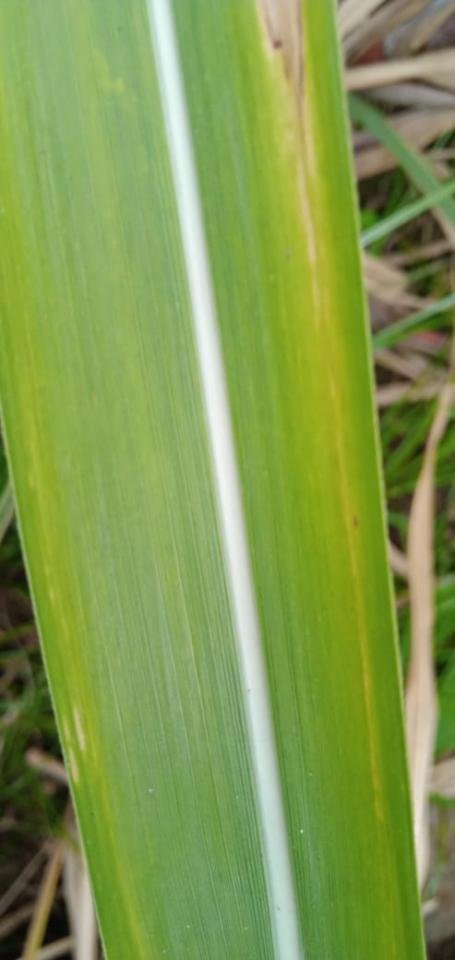Yellow: (0, 117, 170, 959), (255, 69, 393, 827)
